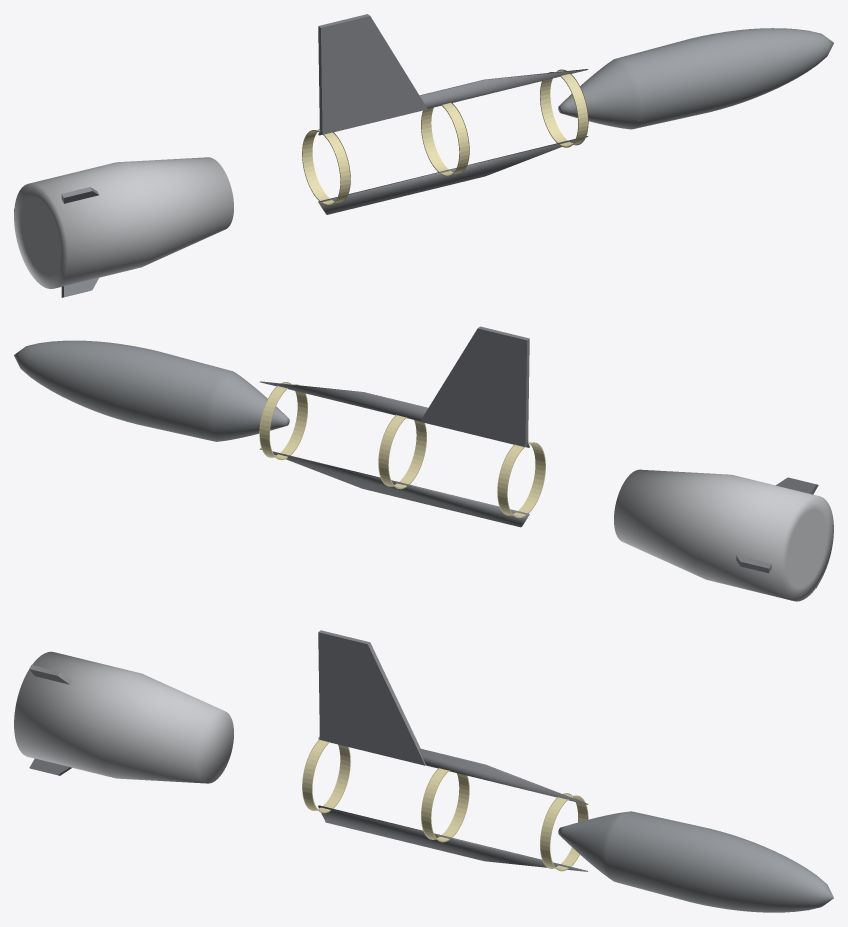
Rendered from US_LAM_Tomahawk_BlockIV_LOD0.fbx.
The picture shows the model from 3 angles, top to bottom: view 1: azimuth 30°, elevation 25°; view 2: azimuth 150°, elevation 25°; view 3: azimuth 330°, elevation 25°; orthographic projection.
Visible parts, largest first — view 1: WPN_US_LAM_Tomahawk_BlockIV_LOD0_Tail, WPN_US_LAM_Tomahawk_BlockIV_LOD0_Body, WPN_US_LAM_Tomahawk_BlockIV_LOD0_Wings, WPN_US_LAM_Tomahawk_BlockIV_LOD0_Detail, WPN_US_LAM_Tomahawk_BlockIV_LOD0_Marking, WPN_US_LAM_Tomahawk_BlockIV_LOD0_Fins; view 2: WPN_US_LAM_Tomahawk_BlockIV_LOD0_Tail, WPN_US_LAM_Tomahawk_BlockIV_LOD0_Body, WPN_US_LAM_Tomahawk_BlockIV_LOD0_Wings, WPN_US_LAM_Tomahawk_BlockIV_LOD0_Detail, WPN_US_LAM_Tomahawk_BlockIV_LOD0_Marking, WPN_US_LAM_Tomahawk_BlockIV_LOD0_Fins; view 3: WPN_US_LAM_Tomahawk_BlockIV_LOD0_Tail, WPN_US_LAM_Tomahawk_BlockIV_LOD0_Body, WPN_US_LAM_Tomahawk_BlockIV_LOD0_Wings, WPN_US_LAM_Tomahawk_BlockIV_LOD0_Detail, WPN_US_LAM_Tomahawk_BlockIV_LOD0_Marking, WPN_US_LAM_Tomahawk_BlockIV_LOD0_Fins.
Part boxes in pixels (<box>): WPN_US_LAM_Tomahawk_BlockIV_LOD0_Tail: <box>14,157,233,288</box>; WPN_US_LAM_Tomahawk_BlockIV_LOD0_Body: <box>558,28,833,129</box>; WPN_US_LAM_Tomahawk_BlockIV_LOD0_Wings: <box>318,14,427,134</box>; WPN_US_LAM_Tomahawk_BlockIV_LOD0_Detail: <box>318,69,588,214</box>; WPN_US_LAM_Tomahawk_BlockIV_LOD0_Marking: <box>302,69,588,205</box>; WPN_US_LAM_Tomahawk_BlockIV_LOD0_Fins: <box>14,187,99,297</box>; WPN_US_LAM_Tomahawk_BlockIV_LOD0_Tail: <box>614,469,833,601</box>; WPN_US_LAM_Tomahawk_BlockIV_LOD0_Body: <box>14,340,289,441</box>; WPN_US_LAM_Tomahawk_BlockIV_LOD0_Wings: <box>420,326,529,447</box>; WPN_US_LAM_Tomahawk_BlockIV_LOD0_Detail: <box>259,381,529,527</box>; WPN_US_LAM_Tomahawk_BlockIV_LOD0_Marking: <box>259,382,545,518</box>; WPN_US_LAM_Tomahawk_BlockIV_LOD0_Fins: <box>736,477,818,588</box>; WPN_US_LAM_Tomahawk_BlockIV_LOD0_Tail: <box>14,651,233,783</box>; WPN_US_LAM_Tomahawk_BlockIV_LOD0_Body: <box>558,811,833,912</box>; WPN_US_LAM_Tomahawk_BlockIV_LOD0_Wings: <box>318,630,425,765</box>; WPN_US_LAM_Tomahawk_BlockIV_LOD0_Detail: <box>318,736,588,871</box>; WPN_US_LAM_Tomahawk_BlockIV_LOD0_Marking: <box>302,739,588,871</box>; WPN_US_LAM_Tomahawk_BlockIV_LOD0_Fins: <box>29,665,71,775</box>.
Bounding box in the file's own units: 6.25 × 0.8112 × 1.46.
